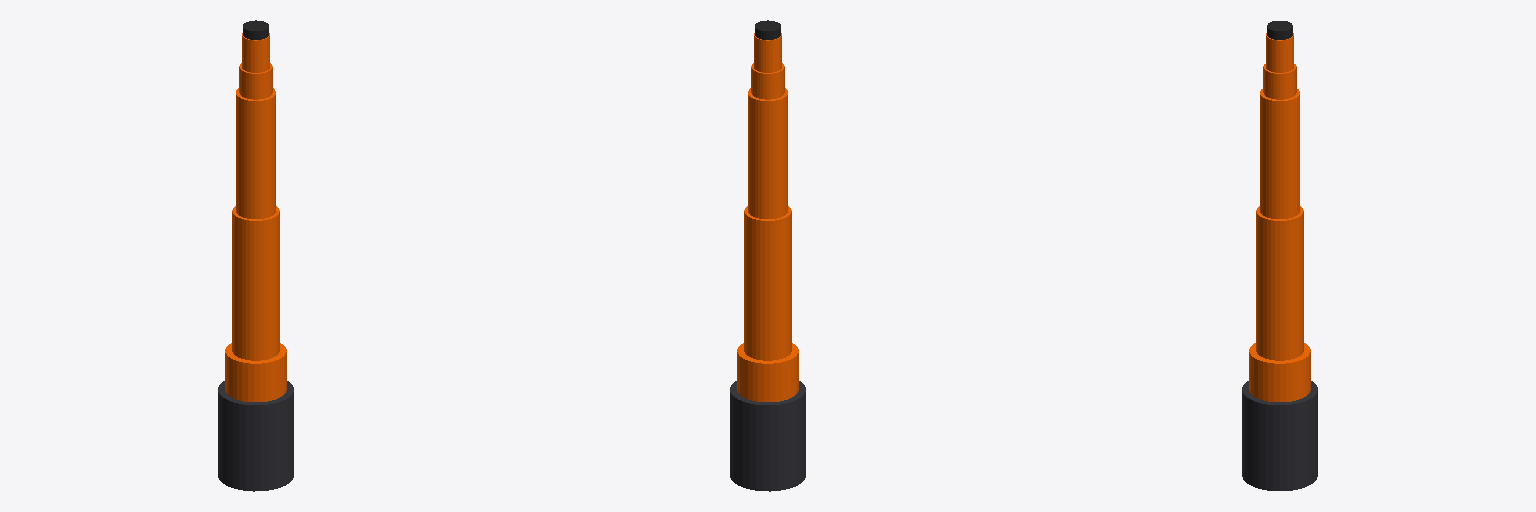
URDF robot description (generic6r):
<?xml version='1.0'?>
<robot name='generic6r'>
  <link name="base">
    <visual><origin xyz="0 0 0.2"/>
      <geometry><cylinder radius="0.16" length="0.4"/></geometry>
      <material name="m_base"><color rgba="0.25 0.25 0.28 1"/></material></visual>
    <collision><origin xyz="0 0 0.2"/>
      <geometry><cylinder radius="0.16" length="0.4"/></geometry></collision>
    <inertial><mass value="5"/><inertia ixx="0.1" iyy="0.1" izz="0.1" ixy="0" ixz="0" iyz="0"/></inertial>
  </link>
  <link name="shoulder">
    <visual><origin xyz="0 0 0.09"/>
      <geometry><cylinder radius="0.13" length="0.18"/></geometry>
      <material name="m_shoulder"><color rgba="1.0 0.45 0.05 1"/></material></visual>
    <collision><origin xyz="0 0 0.09"/>
      <geometry><cylinder radius="0.13" length="0.18"/></geometry></collision>
    <inertial><mass value="5"/><inertia ixx="0.1" iyy="0.1" izz="0.1" ixy="0" ixz="0" iyz="0"/></inertial>
  </link>
  <link name="upperarm">
    <visual><origin xyz="0 0 0.325"/>
      <geometry><cylinder radius="0.1" length="0.65"/></geometry>
      <material name="m_upperarm"><color rgba="1.0 0.45 0.05 1"/></material></visual>
    <collision><origin xyz="0 0 0.325"/>
      <geometry><cylinder radius="0.1" length="0.65"/></geometry></collision>
    <inertial><mass value="5"/><inertia ixx="0.1" iyy="0.1" izz="0.1" ixy="0" ixz="0" iyz="0"/></inertial>
  </link>
  <link name="forearm">
    <visual><origin xyz="0 0 0.275"/>
      <geometry><cylinder radius="0.085" length="0.55"/></geometry>
      <material name="m_forearm"><color rgba="1.0 0.45 0.05 1"/></material></visual>
    <collision><origin xyz="0 0 0.275"/>
      <geometry><cylinder radius="0.085" length="0.55"/></geometry></collision>
    <inertial><mass value="5"/><inertia ixx="0.1" iyy="0.1" izz="0.1" ixy="0" ixz="0" iyz="0"/></inertial>
  </link>
  <link name="wrist1">
    <visual><origin xyz="0 0 0.06"/>
      <geometry><cylinder radius="0.07" length="0.12"/></geometry>
      <material name="m_wrist1"><color rgba="1.0 0.45 0.05 1"/></material></visual>
    <collision><origin xyz="0 0 0.06"/>
      <geometry><cylinder radius="0.07" length="0.12"/></geometry></collision>
    <inertial><mass value="5"/><inertia ixx="0.1" iyy="0.1" izz="0.1" ixy="0" ixz="0" iyz="0"/></inertial>
  </link>
  <link name="wrist2">
    <visual><origin xyz="0 0 0.075"/>
      <geometry><cylinder radius="0.06" length="0.15"/></geometry>
      <material name="m_wrist2"><color rgba="1.0 0.45 0.05 1"/></material></visual>
    <collision><origin xyz="0 0 0.075"/>
      <geometry><cylinder radius="0.06" length="0.15"/></geometry></collision>
    <inertial><mass value="5"/><inertia ixx="0.1" iyy="0.1" izz="0.1" ixy="0" ixz="0" iyz="0"/></inertial>
  </link>
  <link name="flange">
    <visual><origin xyz="0 0 0.02"/>
      <geometry><cylinder radius="0.055" length="0.04"/></geometry>
      <material name="m_flange"><color rgba="0.2 0.2 0.2 1"/></material></visual>
    <collision><origin xyz="0 0 0.02"/>
      <geometry><cylinder radius="0.055" length="0.04"/></geometry></collision>
    <inertial><mass value="5"/><inertia ixx="0.1" iyy="0.1" izz="0.1" ixy="0" ixz="0" iyz="0"/></inertial>
  </link>
  <joint name="A1" type="revolute">
    <parent link="base"/><child link="shoulder"/>
    <origin xyz="0 0 0.4"/><axis xyz="0 0 1"/>
    <limit lower="-3.141592653589793" upper="3.141592653589793" effort="500" velocity="4.0"/>
  </joint>
  <joint name="A2" type="revolute">
    <parent link="shoulder"/><child link="upperarm"/>
    <origin xyz="0 0 0.18"/><axis xyz="0 1 0"/>
    <limit lower="-2.0" upper="2.0" effort="500" velocity="4.0"/>
  </joint>
  <joint name="A3" type="revolute">
    <parent link="upperarm"/><child link="forearm"/>
    <origin xyz="0 0 0.65"/><axis xyz="0 1 0"/>
    <limit lower="-2.6" upper="2.6" effort="500" velocity="4.0"/>
  </joint>
  <joint name="A4" type="revolute">
    <parent link="forearm"/><child link="wrist1"/>
    <origin xyz="0 0 0.55"/><axis xyz="0 0 1"/>
    <limit lower="-3.141592653589793" upper="3.141592653589793" effort="500" velocity="4.0"/>
  </joint>
  <joint name="A5" type="revolute">
    <parent link="wrist1"/><child link="wrist2"/>
    <origin xyz="0 0 0.12"/><axis xyz="0 1 0"/>
    <limit lower="-2.2" upper="2.2" effort="500" velocity="4.0"/>
  </joint>
  <joint name="A6" type="revolute">
    <parent link="wrist2"/><child link="flange"/>
    <origin xyz="0 0 0.15"/><axis xyz="0 0 1"/>
    <limit lower="-3.141592653589793" upper="3.141592653589793" effort="500" velocity="4.0"/>
  </joint>
</robot>

--- What the picture shows (computed from the rendered views, not written in the file) ---
3 views of the same robot in one strip: view 1: azimuth 30°, elevation 25°; view 2: azimuth 150°, elevation 25°; view 3: azimuth 270°, elevation 25° (orthographic).
Robot: generic6r — 7 links, 6 joints (6 revolute); root link base; default pose: all joints at 0.
Links seen in each view (by area): view 1: base, upperarm, forearm, shoulder, wrist1, wrist2; view 2: base, upperarm, forearm, shoulder, wrist1, wrist2; view 3: base, upperarm, forearm, shoulder, wrist1, wrist2.
Link boxes in pixels (<box>): base: <box>218,381,293,491</box>; upperarm: <box>232,206,279,360</box>; forearm: <box>236,88,275,218</box>; shoulder: <box>225,343,286,401</box>; wrist1: <box>239,63,272,99</box>; wrist2: <box>242,33,269,72</box>; base: <box>730,381,805,491</box>; upperarm: <box>744,206,791,360</box>; forearm: <box>748,88,787,218</box>; shoulder: <box>737,343,798,401</box>; wrist1: <box>751,63,784,99</box>; wrist2: <box>754,33,781,72</box>; base: <box>1242,381,1317,490</box>; upperarm: <box>1256,206,1303,360</box>; forearm: <box>1260,89,1299,218</box>; shoulder: <box>1249,343,1310,401</box>; wrist1: <box>1263,64,1296,99</box>; wrist2: <box>1266,33,1293,72</box>.
Size in the robot's own frame: 0.32 by 0.32 by 2.09 metres.
Geometry: primitives only (box / cylinder / sphere), no mesh files.
